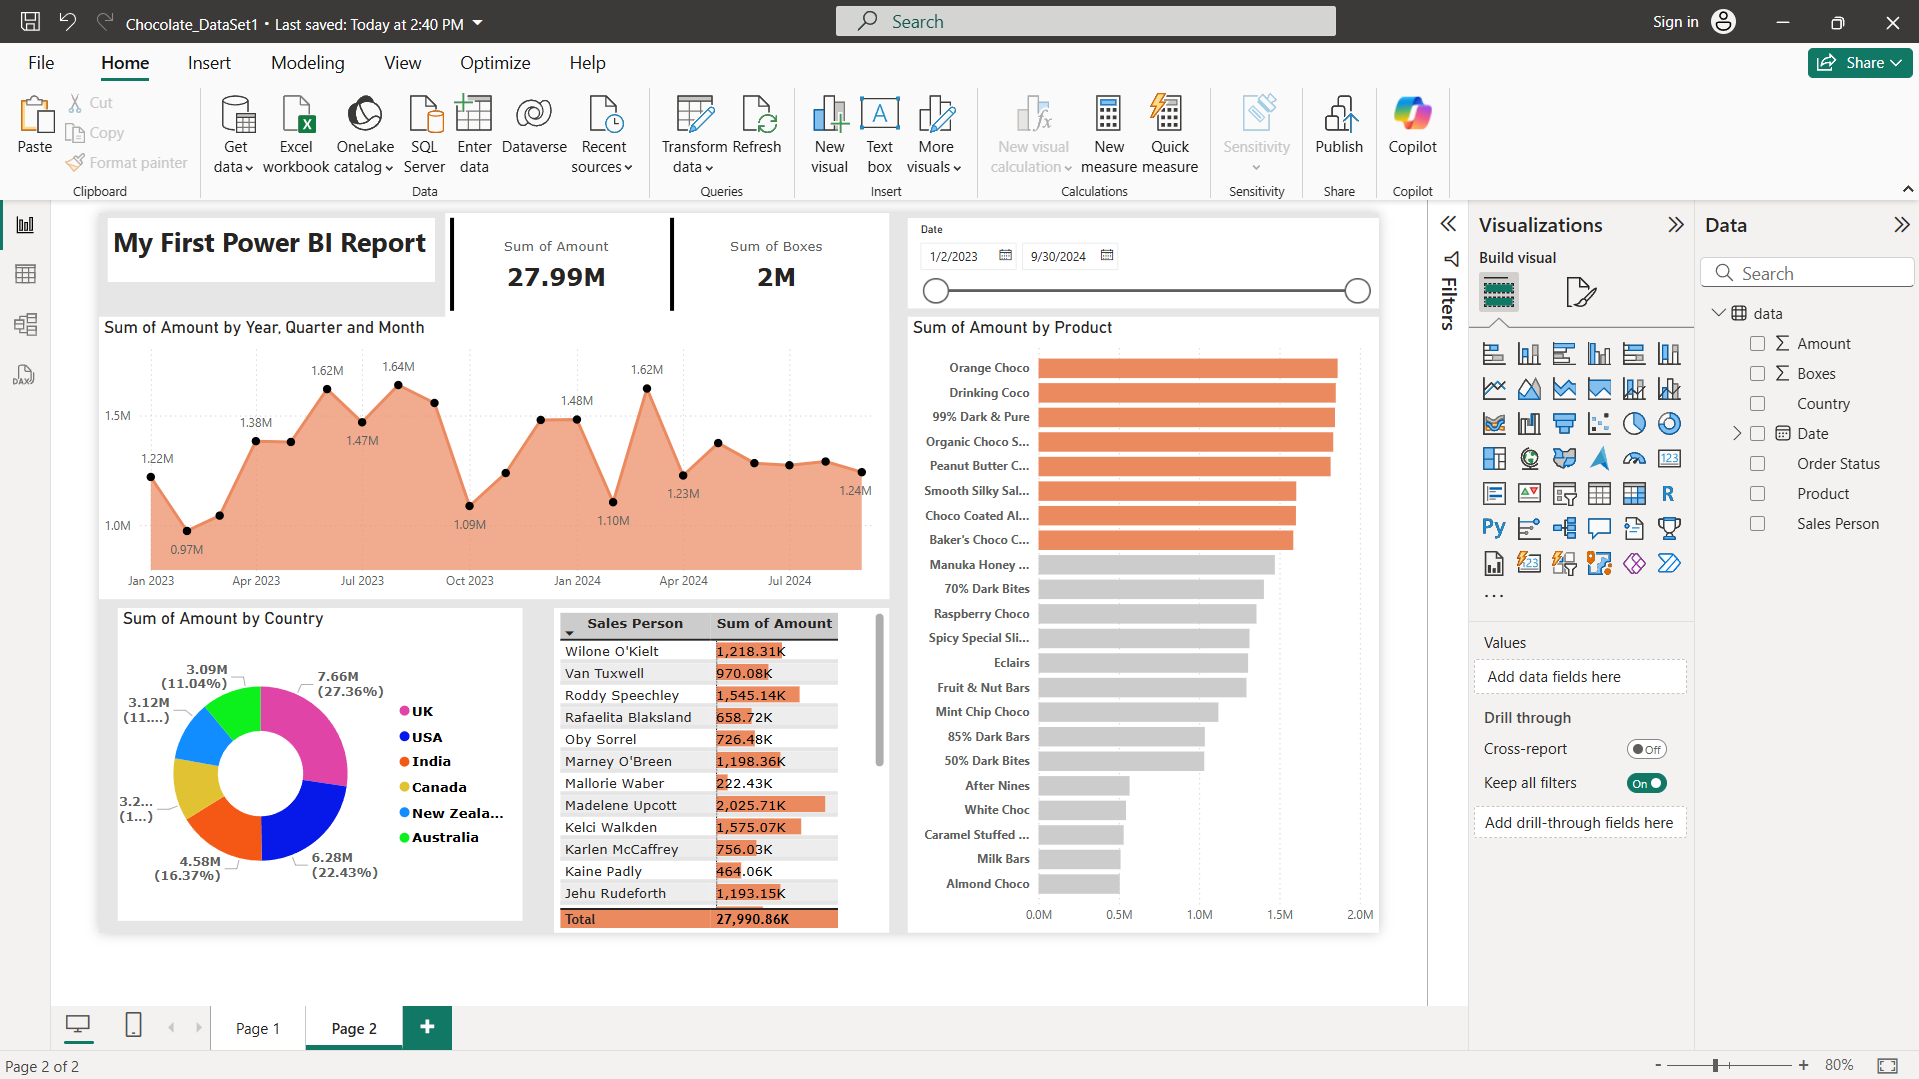

This screenshot's page, from the dashboard's own definition file:
{"tool":"powerbi","page":{"name":"Page 2","canvas":[1280,720],"ordinal":1},"visuals":[{"type":"lineChart","fields":{"Category":["data.Date.Variation.Date Hierarchy.Year","data.Date.Variation.Date Hierarchy.Quarter","data.Date.Variation.Date Hierarchy.Month","data.Date.Variation.Date Hierarchy.Day"],"Y":["Sum(data.Amount)"]},"box":[0,103.8,790,282.5],"z":0},{"type":"donutChart","fields":{"Category":["data.Country"],"Y":["Sum(data.Amount)"]},"box":[18.8,395,405,312.5],"z":1000},{"type":"tableEx","fields":{"Values":["data.Sales Person","Sum(data.Amount)"]},"box":[455,395,335,325],"z":2000},{"type":"clusteredBarChart","fields":{"Category":["data.Product"],"Y":["Sum(data.Amount)"]},"box":[808.8,103.8,471.2,616.2],"z":3000},{"type":"cardVisual","fields":{"Data":["Sum(data.Amount)","Sum(data.Boxes)"]},"box":[346.2,0,443.8,103.8],"z":4000},{"type":"slicer","fields":{"Values":["data.Date"]},"box":[808.8,5,471.2,90],"z":5000},{"type":"textbox","box":[8.8,5,327.5,63.8],"z":6000}]}

Visuals, with their boxes on the page's 1280x720 design canvas (x1, y1, x2, y2). These are canvas units, not pixel positions in the 1919x1079 screenshot, which may show the page scaled, cropped or inside an application window:
lineChart - data.Date.Variation.Date Hierarchy.Year x data.Date.Variation.Date Hierarchy.Quarter: <region>0, 104, 790, 386</region>
donutChart - data.Country x Sum(data.Amount): <region>19, 395, 424, 708</region>
tableEx - data.Sales Person x Sum(data.Amount): <region>455, 395, 790, 720</region>
clusteredBarChart - data.Product x Sum(data.Amount): <region>809, 104, 1280, 720</region>
cardVisual - Sum(data.Amount) x Sum(data.Boxes): <region>346, 0, 790, 104</region>
slicer - data.Date: <region>809, 5, 1280, 95</region>
textbox: <region>9, 5, 336, 69</region>
